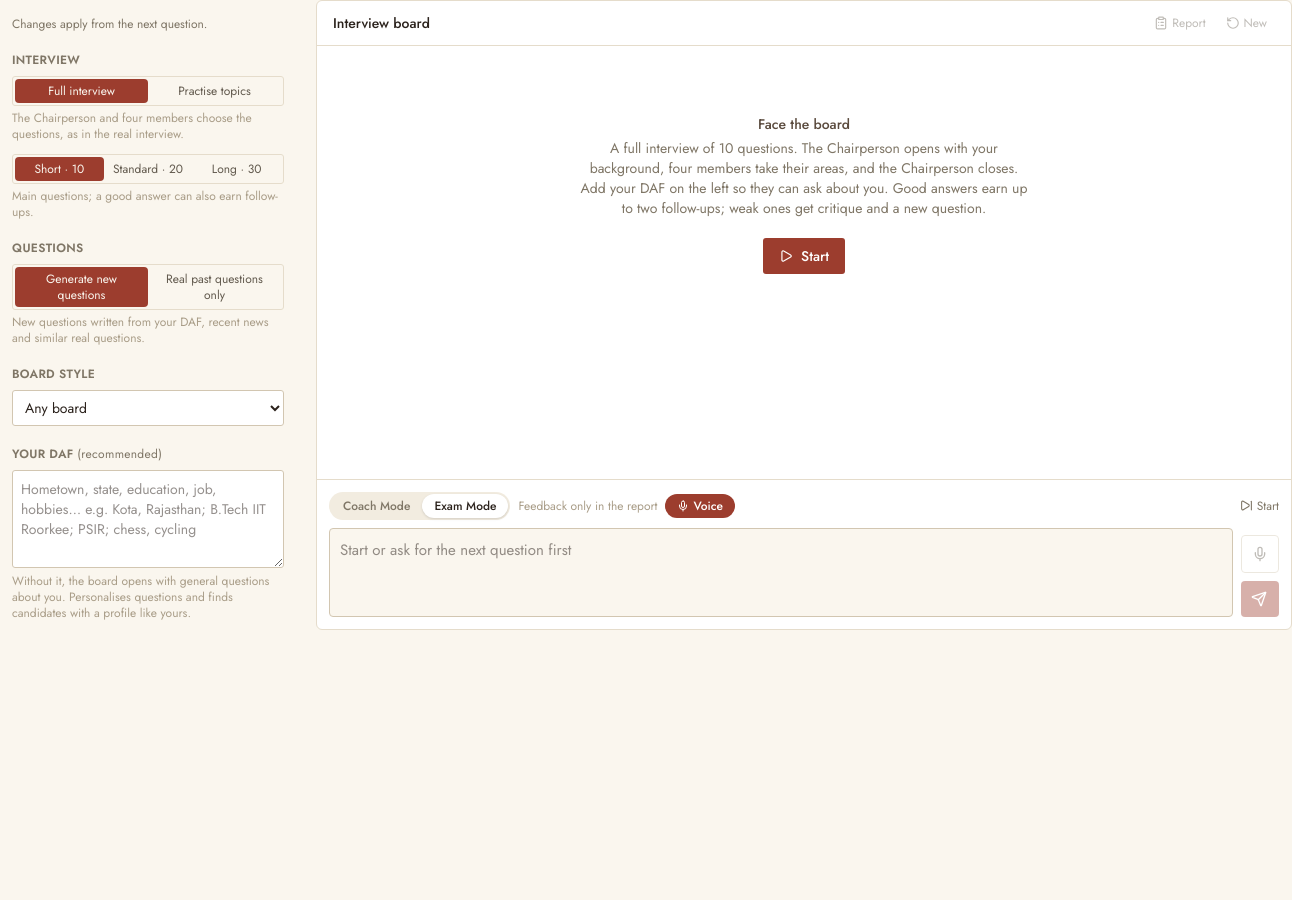
Scenario: full interview › starts without topics, in Exam mode with voice, and ends with thanks and the report
Expected: the text "Face the board" is shown, [758,114,850,134]
Expected: the text "A full interview of 10 questions" is shown, [581,138,1018,198]
Click the button "Start" below "Face the board" at coordinates (804, 256), box [763,238,845,274]
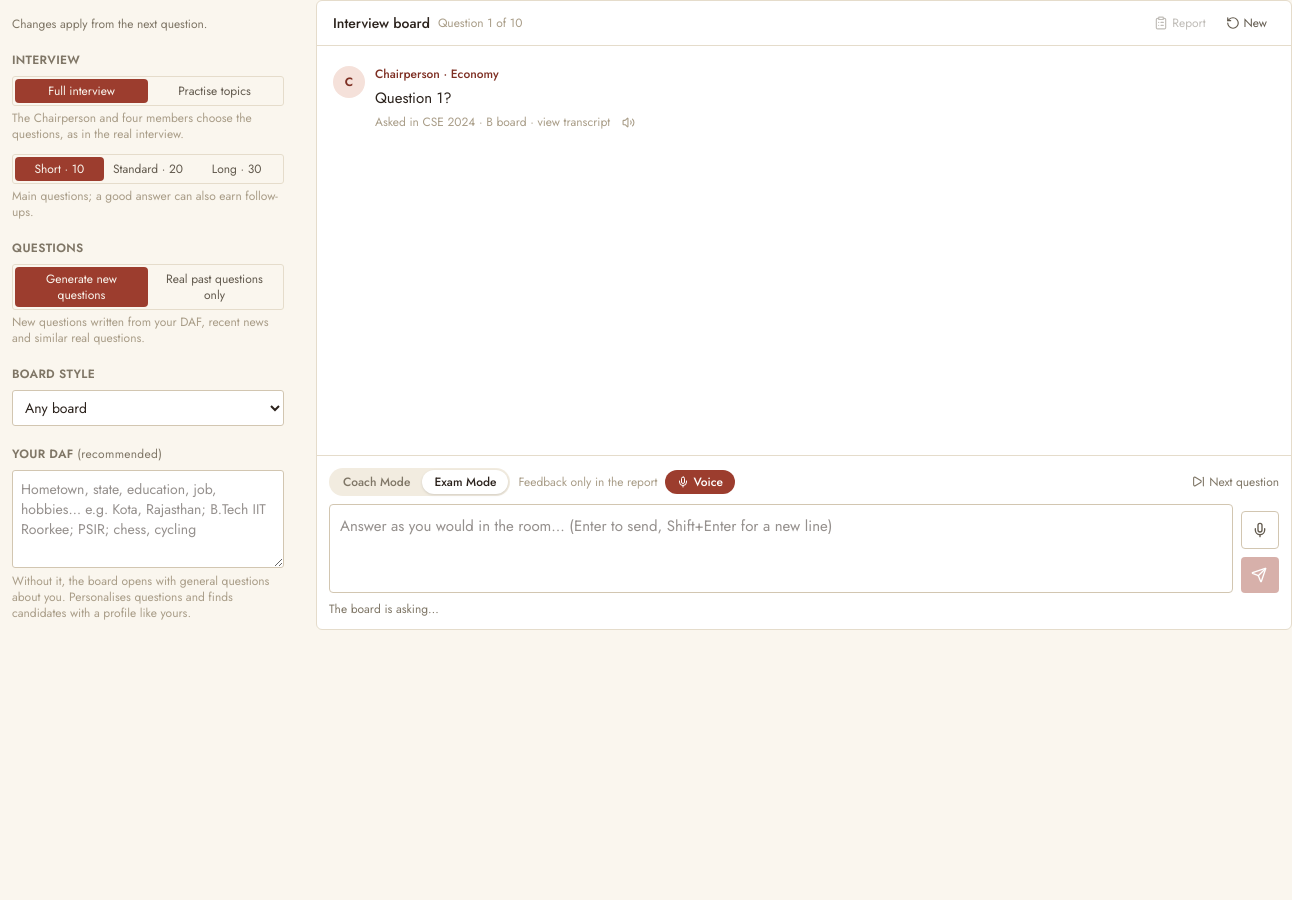
Now the text "Question 1?" is shown, box [375,87,452,109]
Now the text "Chairperson · Economy" is shown, box [375,65,499,83]
Now the text "Question 1 of 10" is shown, box [438,15,522,31]
Click the button "Next question" at coordinates (1236, 482), box [1192,474,1279,490]
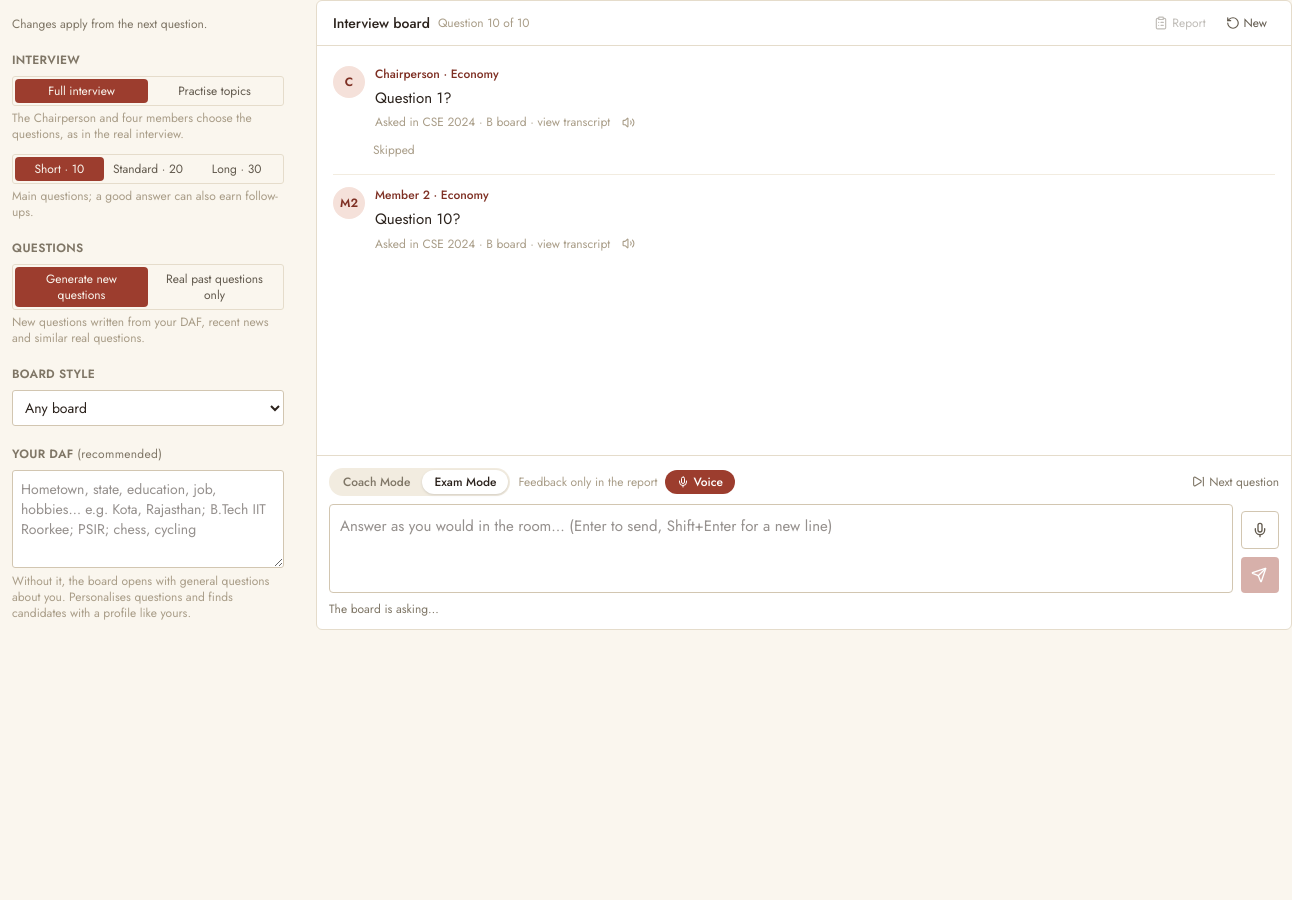
Now the text "Question 10?" is shown, box [375,208,461,230]
Now the text titled "Member 2" reads "M2", box [340,194,358,212]
Now the text "Question 10 of 10" is shown, box [438,15,530,31]
Type "My answer" into the text box named "Your answer" at coordinates (781, 548), box [329,504,1233,593]
Then press Enter
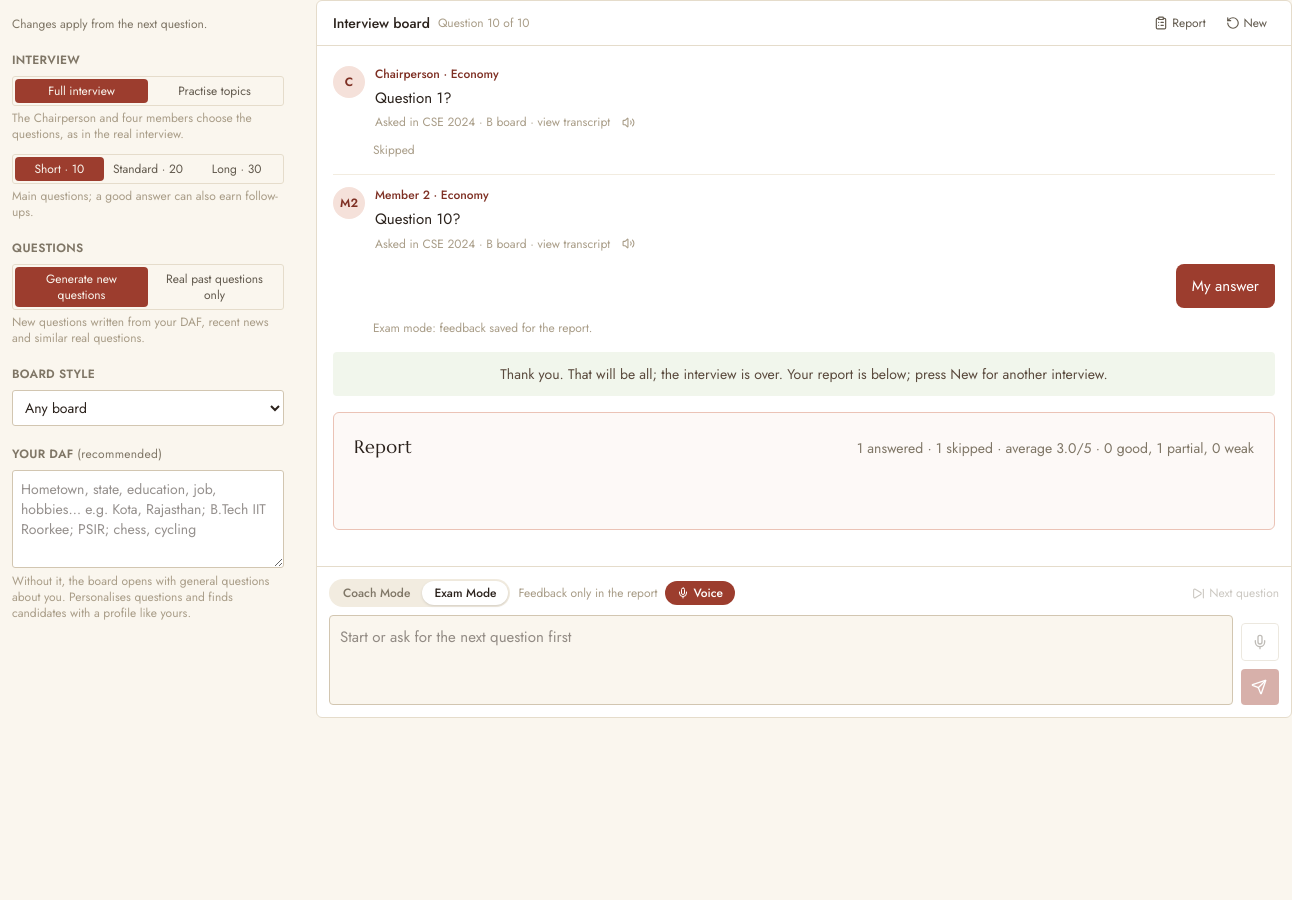
Now the text "That will be all; the interview is over. Your report is below" is shown, box [333,352,1275,396]
Now the text "1 answered · 1 skipped" is shown, box [857,438,1254,458]
Now the button "Next question" is disabled, box [1192,585,1279,601]
